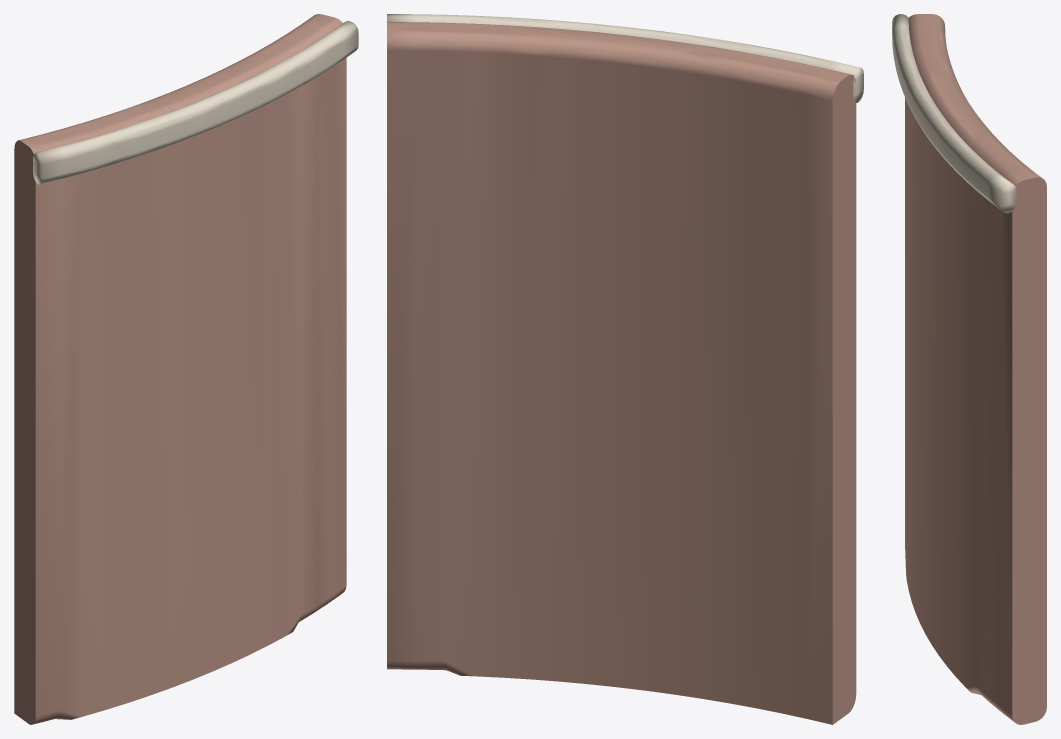
File: ArcWall_R4_A30.glb
3 renders of one model, left to right at view 1: azimuth 30°, elevation 25°; view 2: azimuth 150°, elevation 25°; view 3: azimuth 270°, elevation 25°, orthographic. The views are drawn at different scales.
Visible parts, largest first — view 1: PBK_substrate.001, PBK_floor_band.001; view 2: PBK_substrate.001, PBK_floor_band.001; view 3: PBK_substrate.001, PBK_floor_band.001.
Part boxes in pixels (bbox=[...]): PBK_substrate.001: bbox=[14, 14, 346, 724]; PBK_floor_band.001: bbox=[33, 21, 358, 184]; PBK_substrate.001: bbox=[387, 22, 856, 724]; PBK_floor_band.001: bbox=[387, 14, 863, 102]; PBK_substrate.001: bbox=[905, 14, 1046, 724]; PBK_floor_band.001: bbox=[892, 14, 1016, 213].
Bounding box in the file's own units: 2.03 × 3 × 0.7741.
